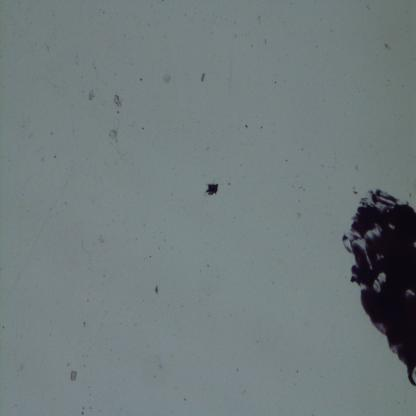Background material: (203, 177, 220, 201), (66, 365, 79, 385), (159, 72, 172, 86), (108, 128, 119, 142), (113, 91, 122, 108), (96, 233, 106, 245), (349, 184, 359, 196), (87, 89, 96, 102), (79, 318, 88, 329), (200, 72, 207, 84), (242, 121, 250, 131), (384, 42, 392, 50), (154, 284, 159, 296)
Pen: (333, 184, 416, 388)
